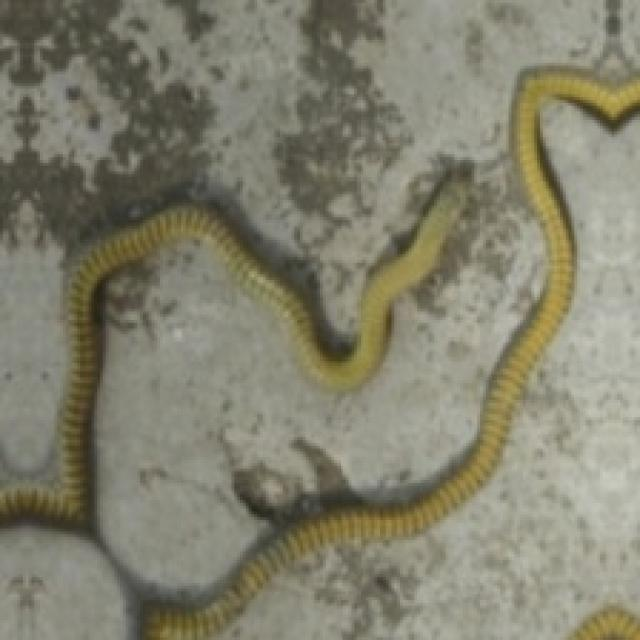gervais worm snake: (143, 66, 637, 637), (0, 174, 466, 526)
